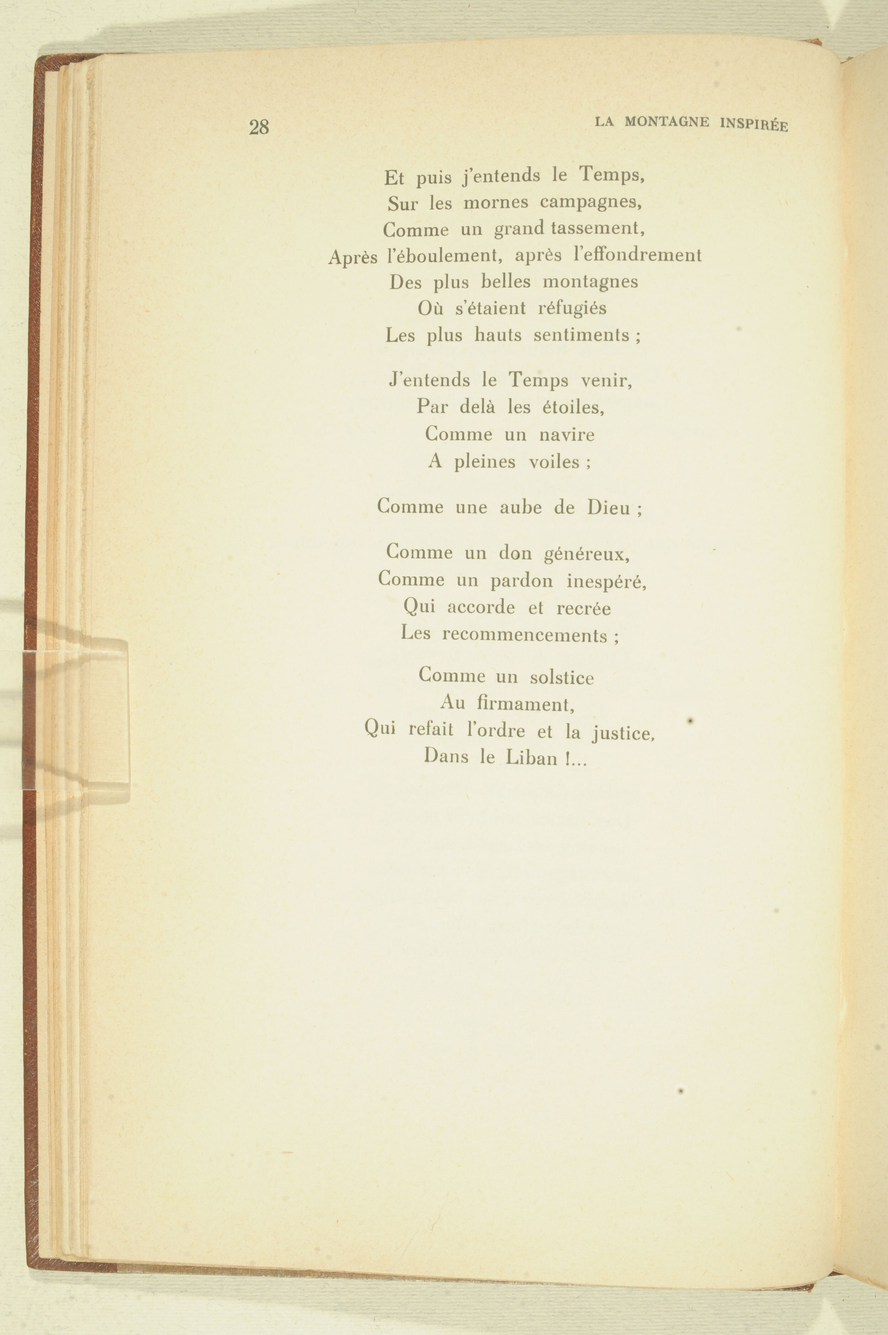N°Page: (242, 112, 287, 147)
TitreCourant: (589, 106, 818, 142)
Vers: (385, 320, 677, 353), (359, 715, 672, 745), (376, 491, 664, 522), (377, 564, 665, 593), (324, 244, 721, 265), (381, 159, 649, 189), (382, 538, 638, 567), (388, 624, 628, 653), (379, 214, 654, 238), (391, 364, 635, 391), (386, 266, 649, 291), (399, 594, 629, 621), (414, 296, 632, 321), (406, 663, 613, 689), (378, 192, 646, 212), (417, 422, 610, 448), (413, 396, 607, 421), (415, 745, 591, 768), (436, 694, 582, 718), (424, 454, 609, 472)
